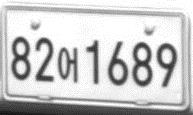1: (84, 39, 101, 85)
2: (34, 37, 55, 81)
6: (106, 40, 130, 86)
8: (132, 41, 153, 87), (10, 35, 31, 80)
9: (156, 42, 177, 88)
어: (58, 45, 78, 83)
